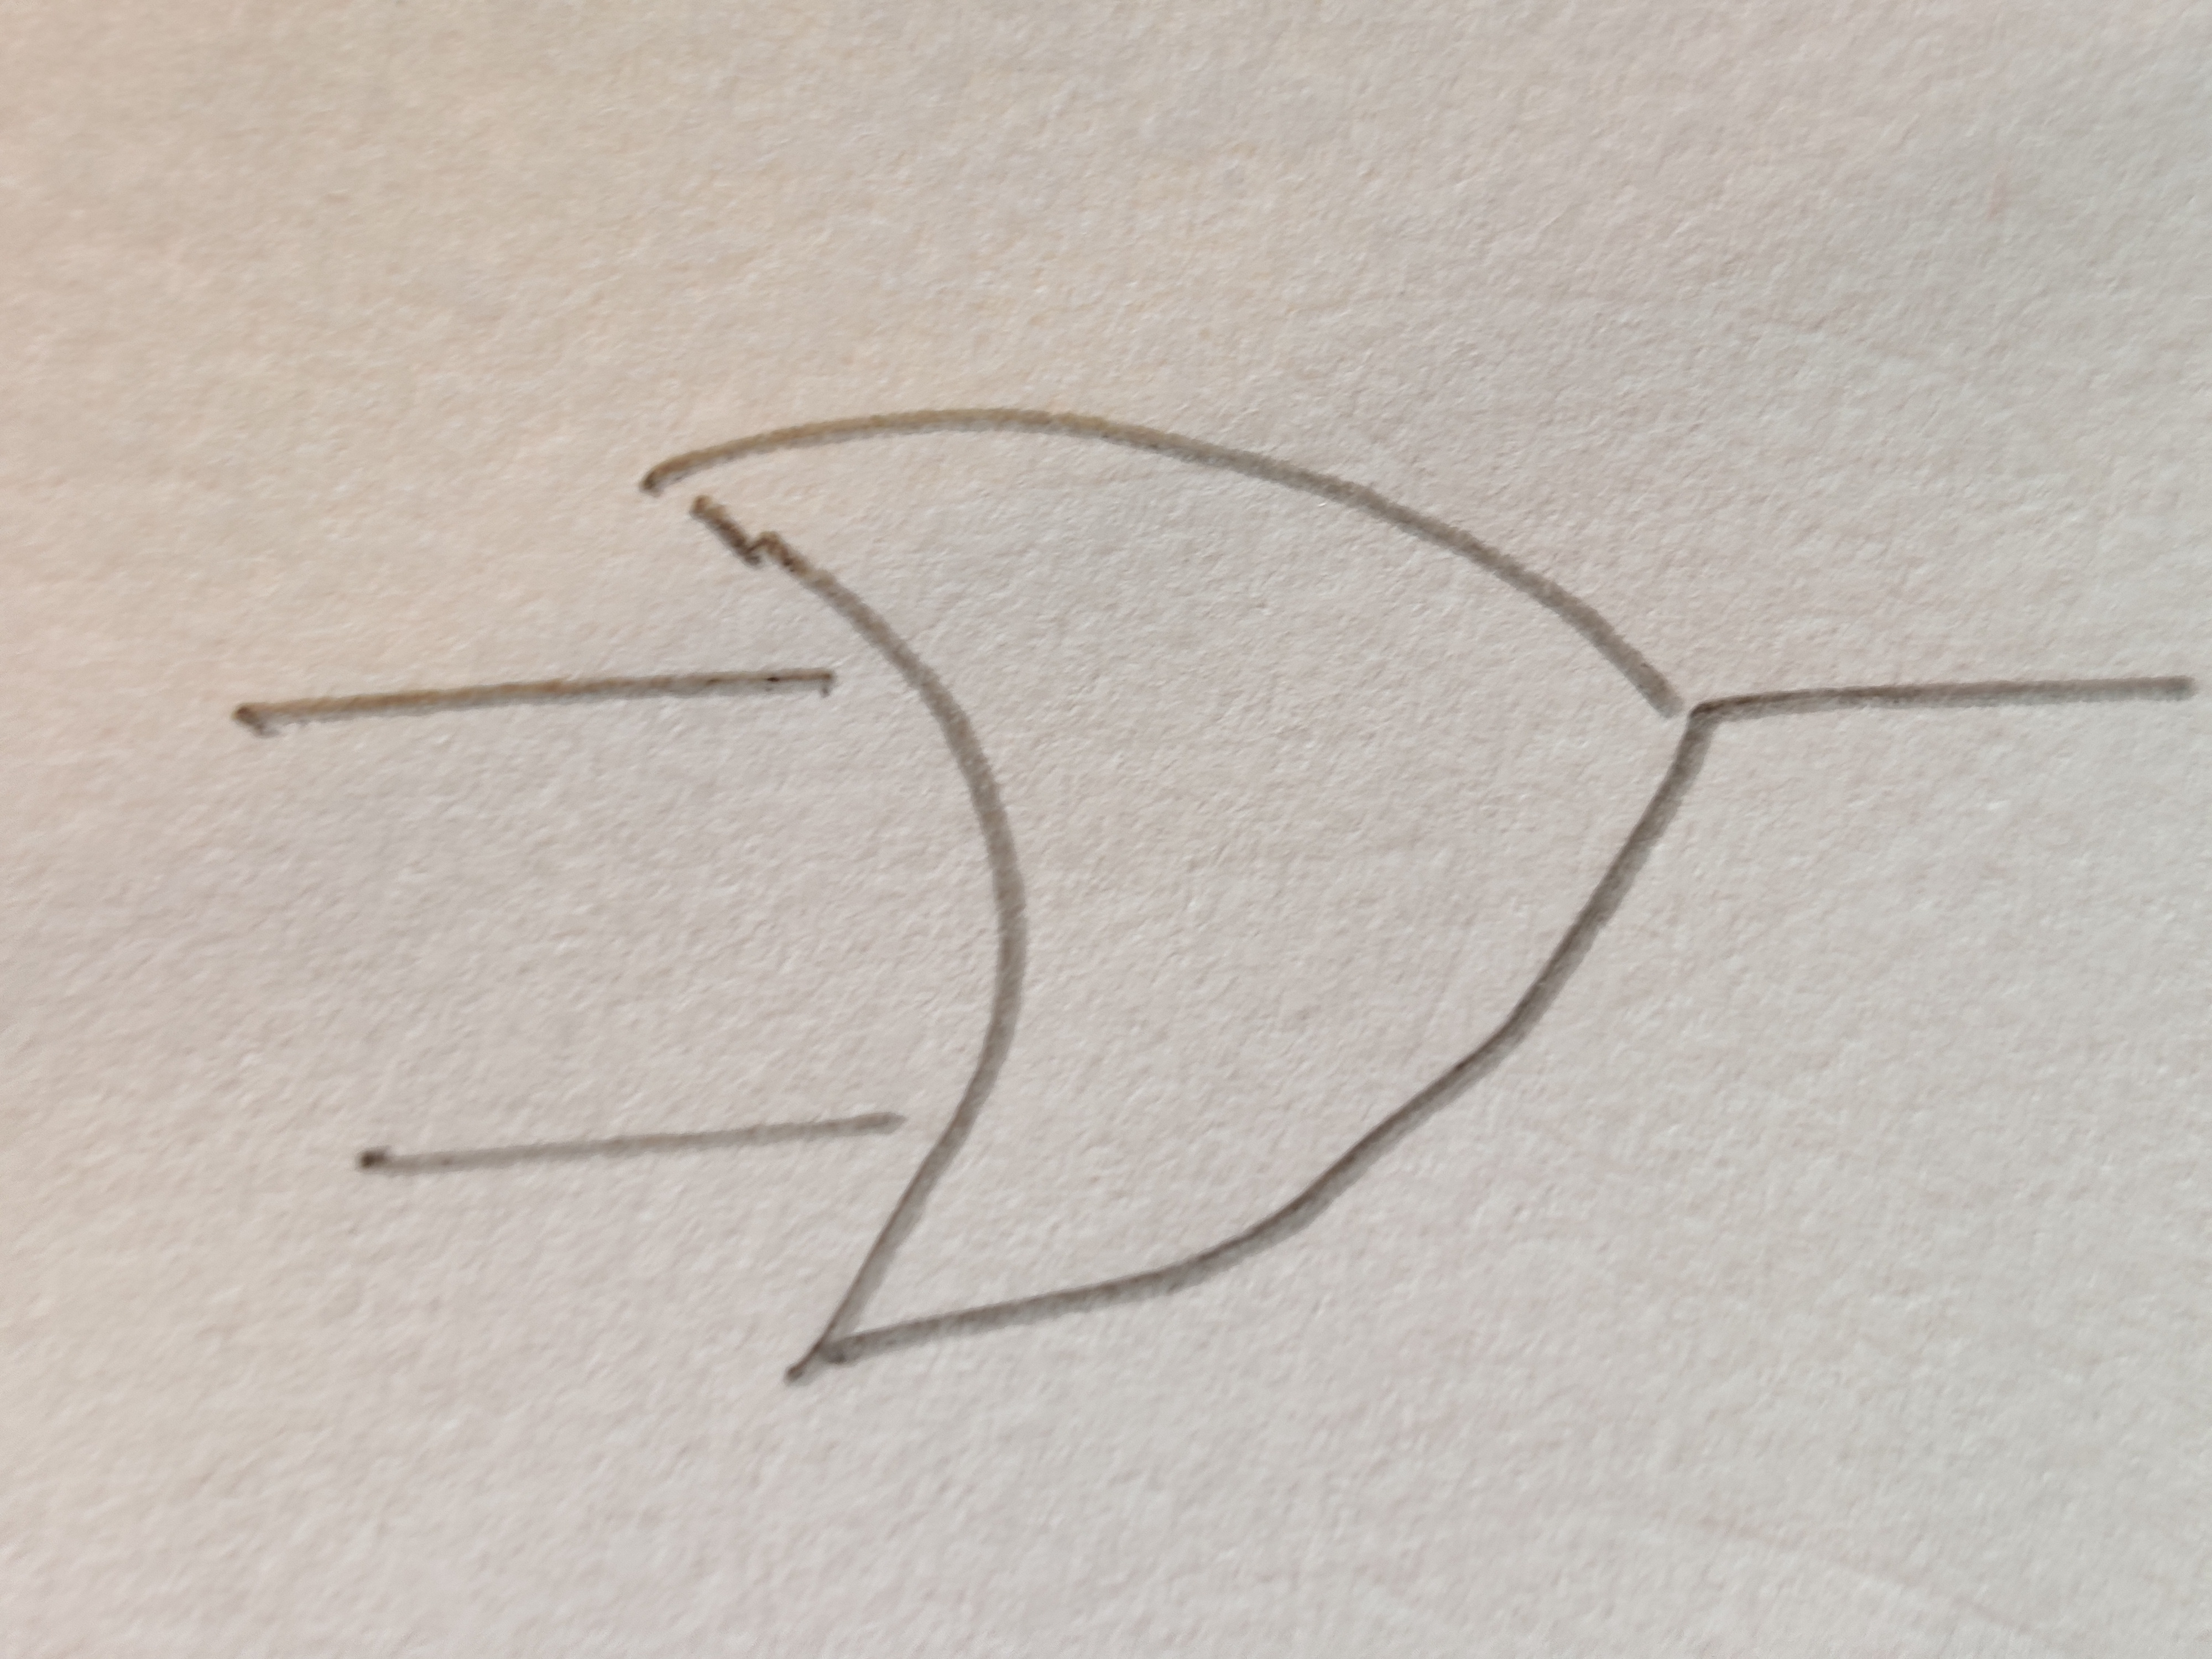or: (651, 410, 1716, 1361)
